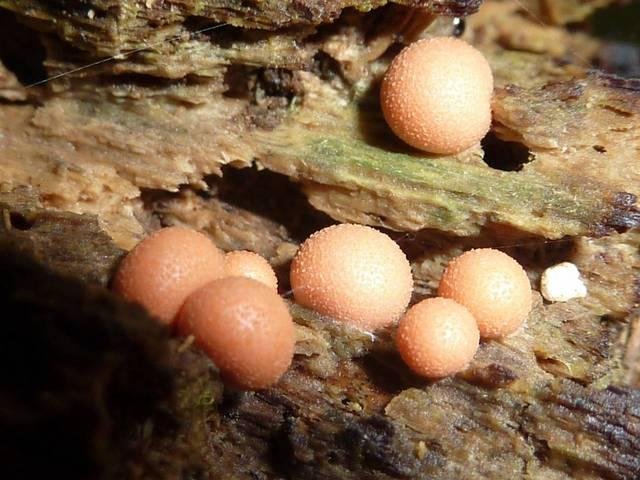Non-edible Mushroom: (173, 275, 297, 391), (379, 35, 494, 155), (289, 221, 413, 332), (111, 224, 225, 325), (437, 246, 532, 339), (395, 295, 480, 378), (222, 248, 278, 293)
